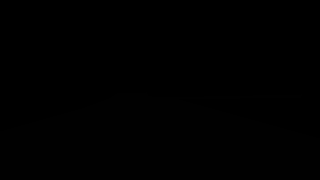turn_right: (189, 66, 201, 79)
